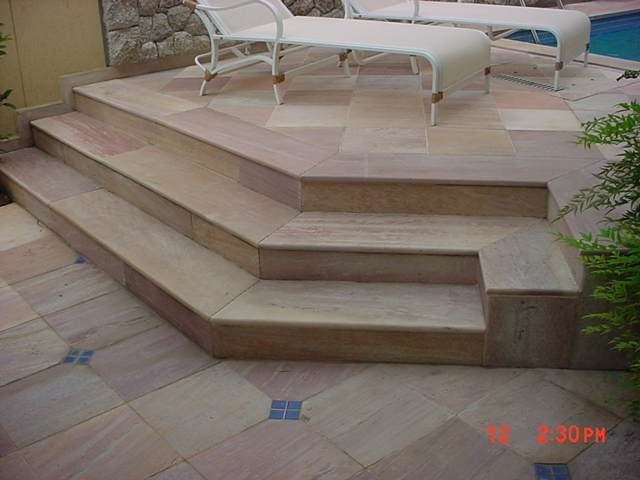escada: (22, 58, 532, 454)
